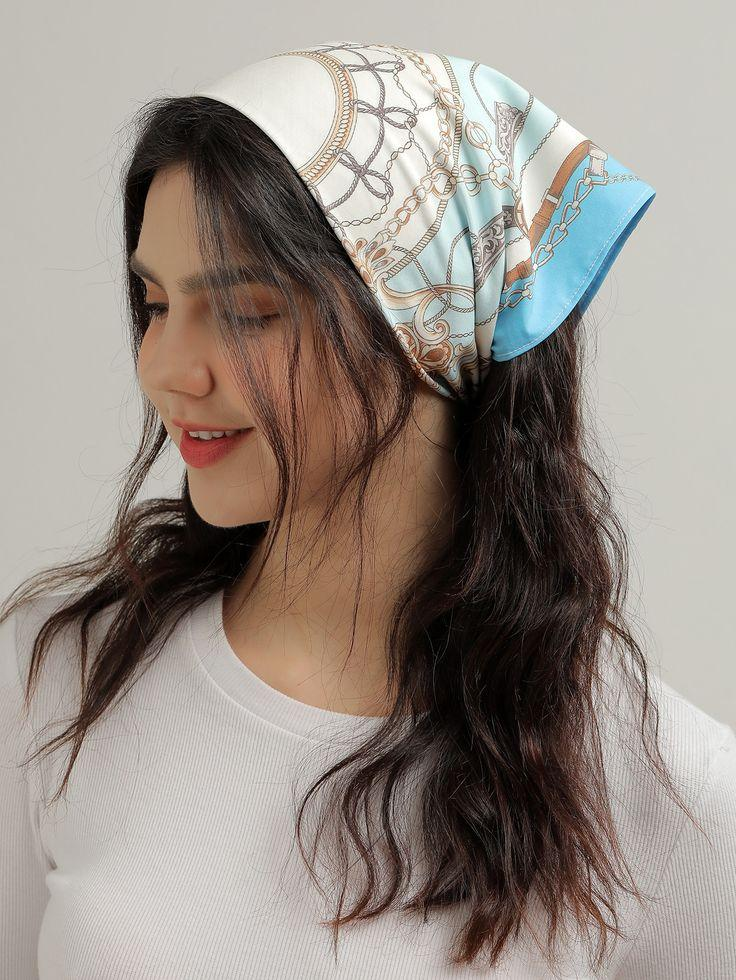cap: (130, 23, 650, 360)
